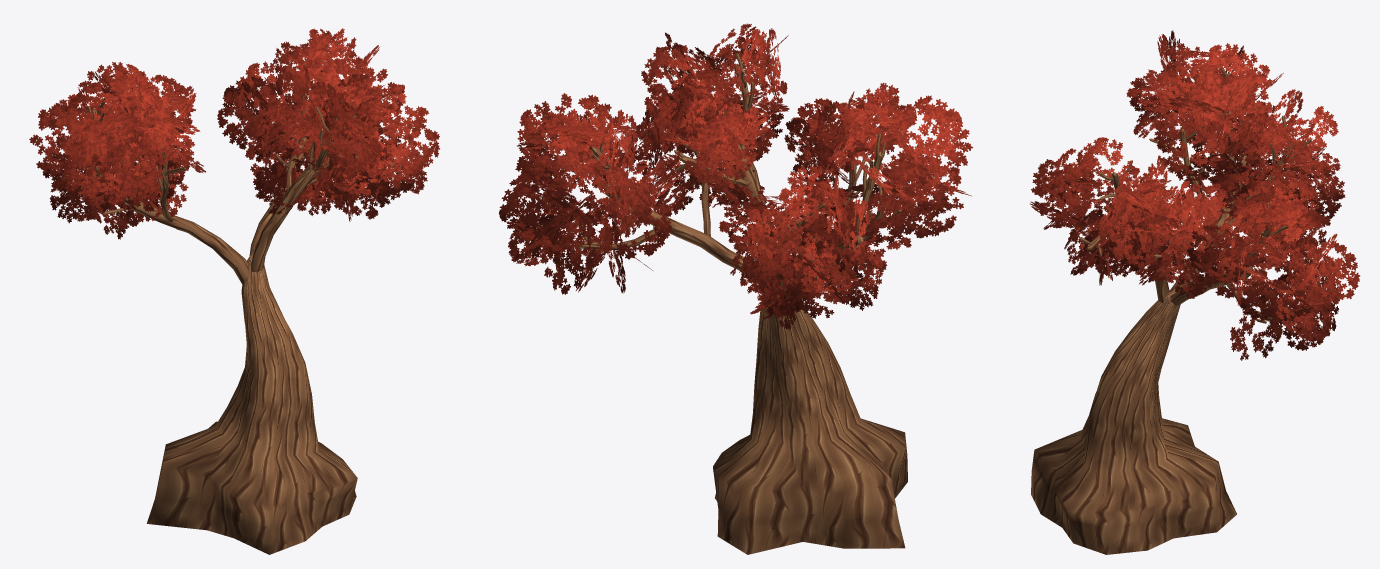
File: ct_maple_2.gltf
3 views of the same model, side by side, from view 1: azimuth 30°, elevation 25°; view 2: azimuth 150°, elevation 25°; view 3: azimuth 270°, elevation 25° (orthographic). The views are drawn at different scales.
Visible parts, largest first — view 1: ct_maple_2_leaves_LOD0, ct_maple_2_trunk_LOD0; view 2: ct_maple_2_leaves_LOD0, ct_maple_2_trunk_LOD0; view 3: ct_maple_2_leaves_LOD0, ct_maple_2_trunk_LOD0.
Part boxes in pixels (x1,y1,x2,y2): ct_maple_2_leaves_LOD0: (29,28,439,239); ct_maple_2_trunk_LOD0: (79,59,404,554); ct_maple_2_leaves_LOD0: (499,23,973,329); ct_maple_2_trunk_LOD0: (575,52,907,554); ct_maple_2_leaves_LOD0: (1030,30,1360,360); ct_maple_2_trunk_LOD0: (1031,61,1311,554).
Size of what is drawn, in the model's own units: 8.63 by 8.99 by 6.45.
Materials: 2 (2 with a texture image).
